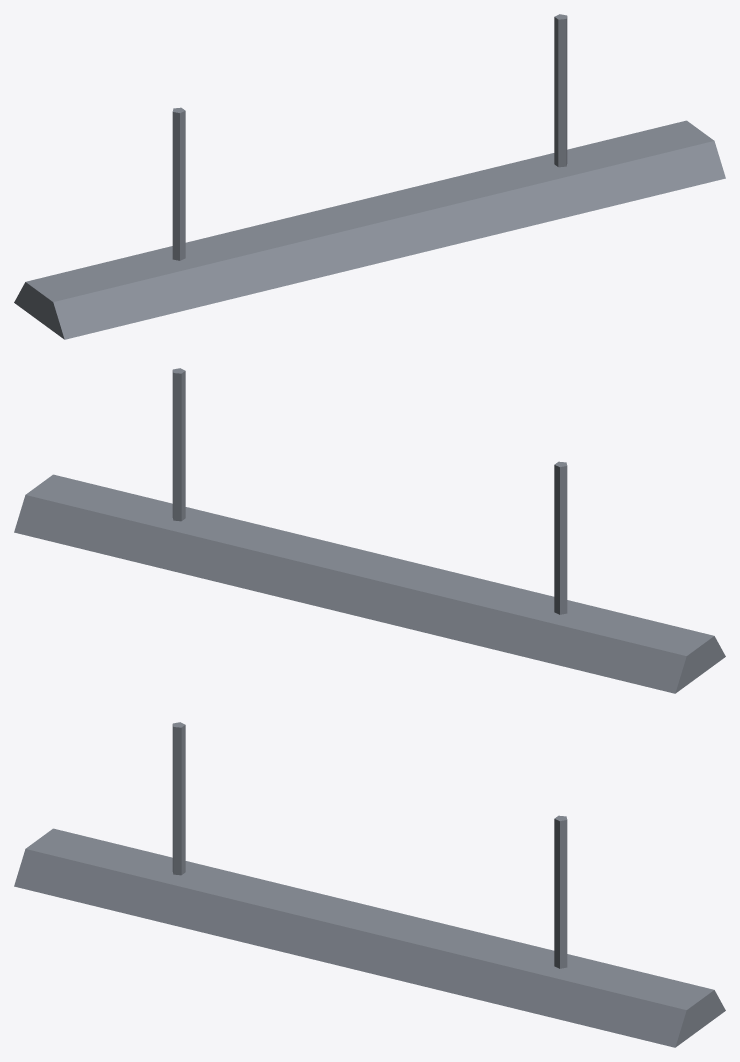
Rendered from Small Flourescent Light.fbx.
The picture shows the model from 3 angles, top to bottom: view 1: azimuth 30°, elevation 25°; view 2: azimuth 150°, elevation 25°; view 3: azimuth 330°, elevation 25°; orthographic projection.
Visible parts, largest first — view 1: Small_Flourescent_Light; view 2: Small_Flourescent_Light; view 3: Small_Flourescent_Light.
Part boxes in pixels (box(x1,y1,x2,y2)): Small_Flourescent_Light: box(14, 14, 725, 339); Small_Flourescent_Light: box(14, 368, 725, 693); Small_Flourescent_Light: box(14, 722, 725, 1047).
Size of the model in its own units: 9.16 by 2.34 by 1.22.
Materials: 2 (1 with a texture image).
